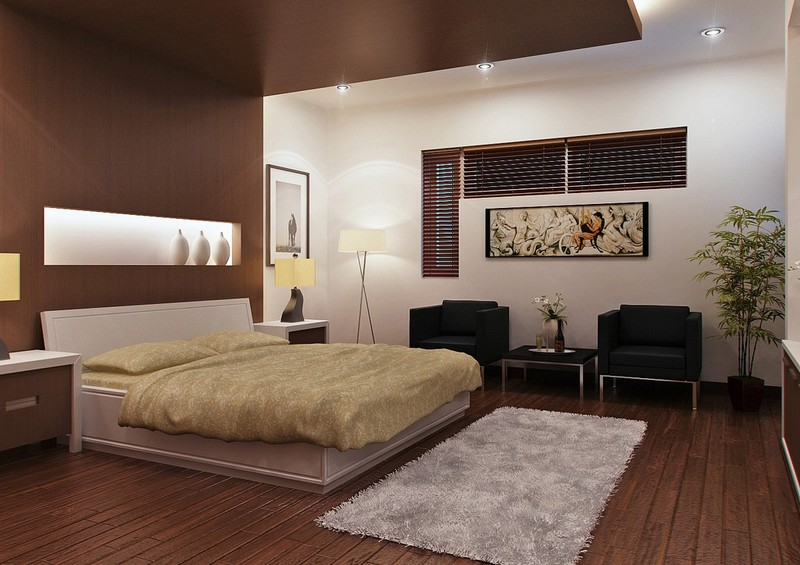bed: (37, 295, 482, 494)
chair: (596, 303, 706, 421), (409, 297, 511, 398)
lamp: (274, 257, 319, 323), (1, 251, 21, 363)
table: (1, 347, 84, 453), (500, 344, 601, 402)
